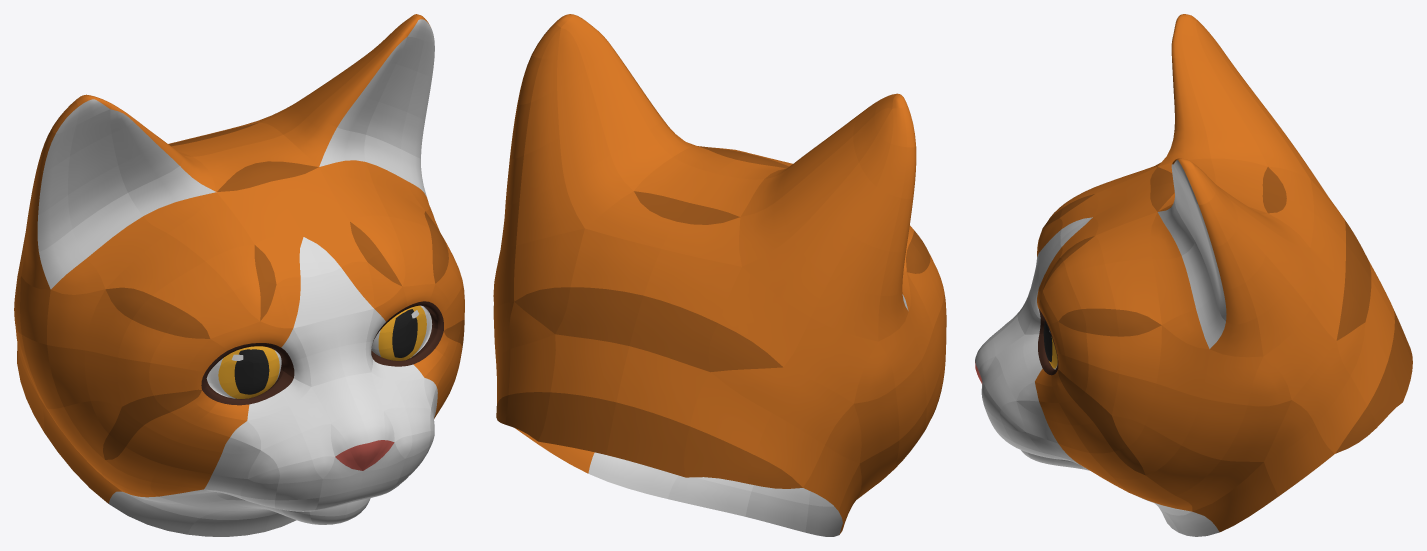
File: bodo_head.fbx
3 renders of one model, left to right at view 1: azimuth 30°, elevation 25°; view 2: azimuth 150°, elevation 25°; view 3: azimuth 270°, elevation 25°, orthographic. The views are drawn at different scales.
Visible parts, largest first — view 1: Cat_Red_White; view 2: Cat_Red_White; view 3: Cat_Red_White.
Boxes of the visible parts, bbox=[...] form: Cat_Red_White: bbox=[14, 14, 464, 536]; Cat_Red_White: bbox=[493, 14, 946, 536]; Cat_Red_White: bbox=[975, 14, 1412, 536].
Bounding box in the file's own units: 0.1158 × 0.1305 × 0.1226.
Materials: 1 (1 with a texture image).
